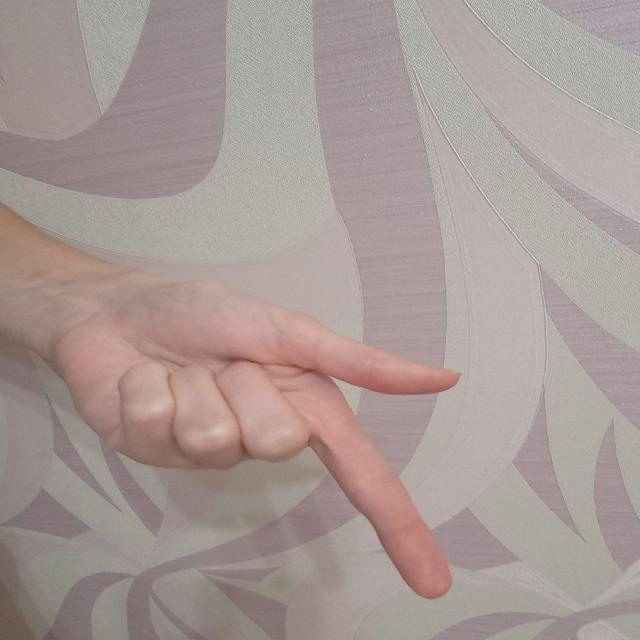g: (62, 278, 476, 598)
